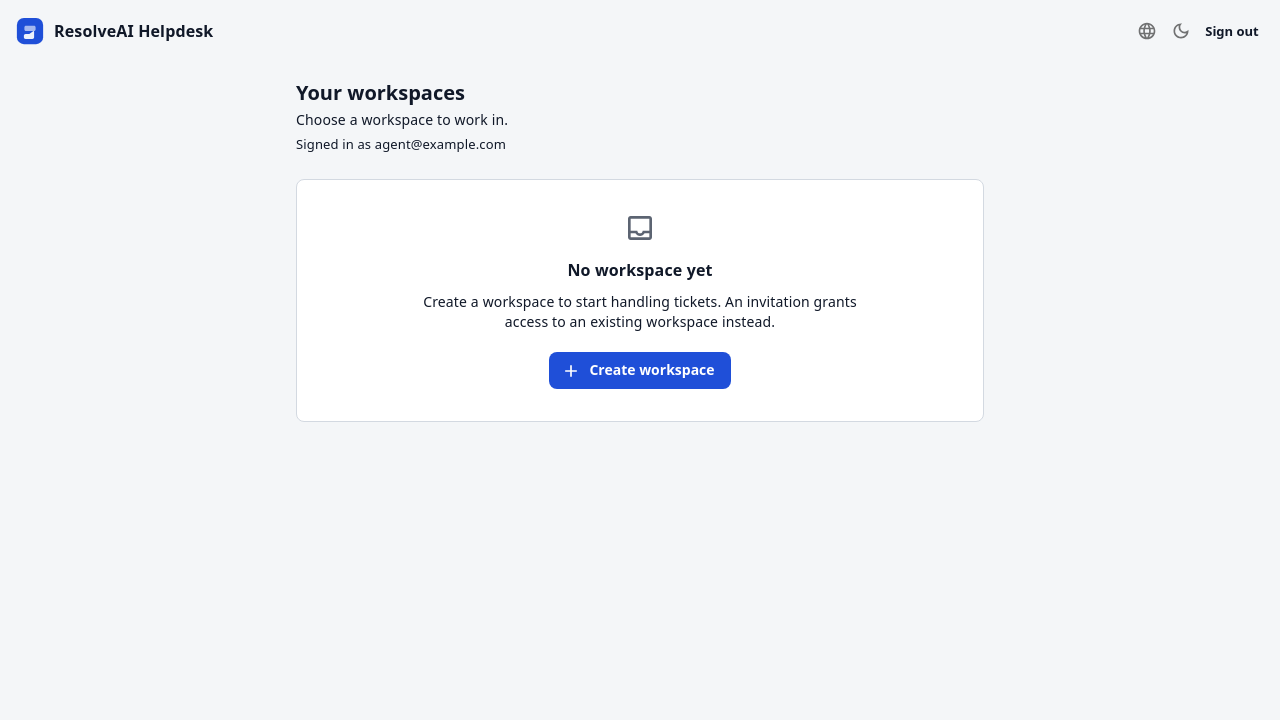
Test: WorkspacePickerPage › shows a duplicate slug as a field error from the server
Click the button "Create workspace" at (640, 371), box x1=549 y1=352 x2=731 y2=389
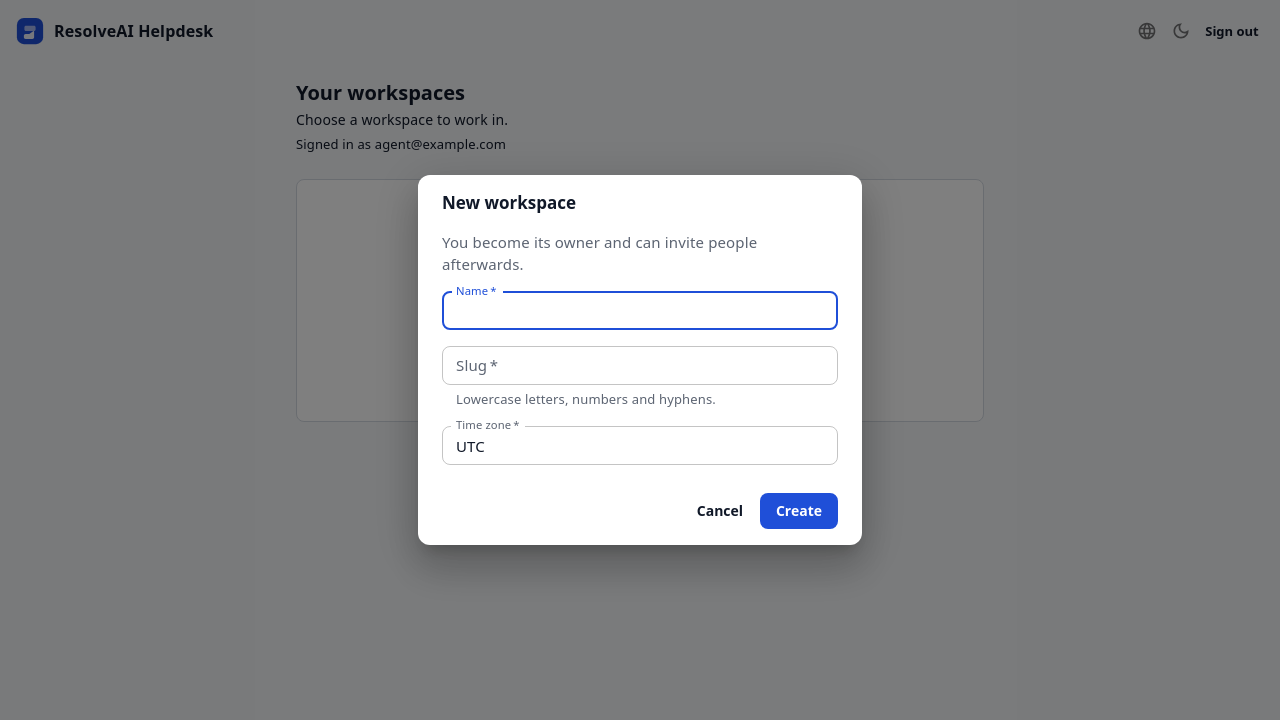
Type "Acme" into the field labelled "Name *" at (640, 311), box x1=442 y1=292 x2=838 y2=330
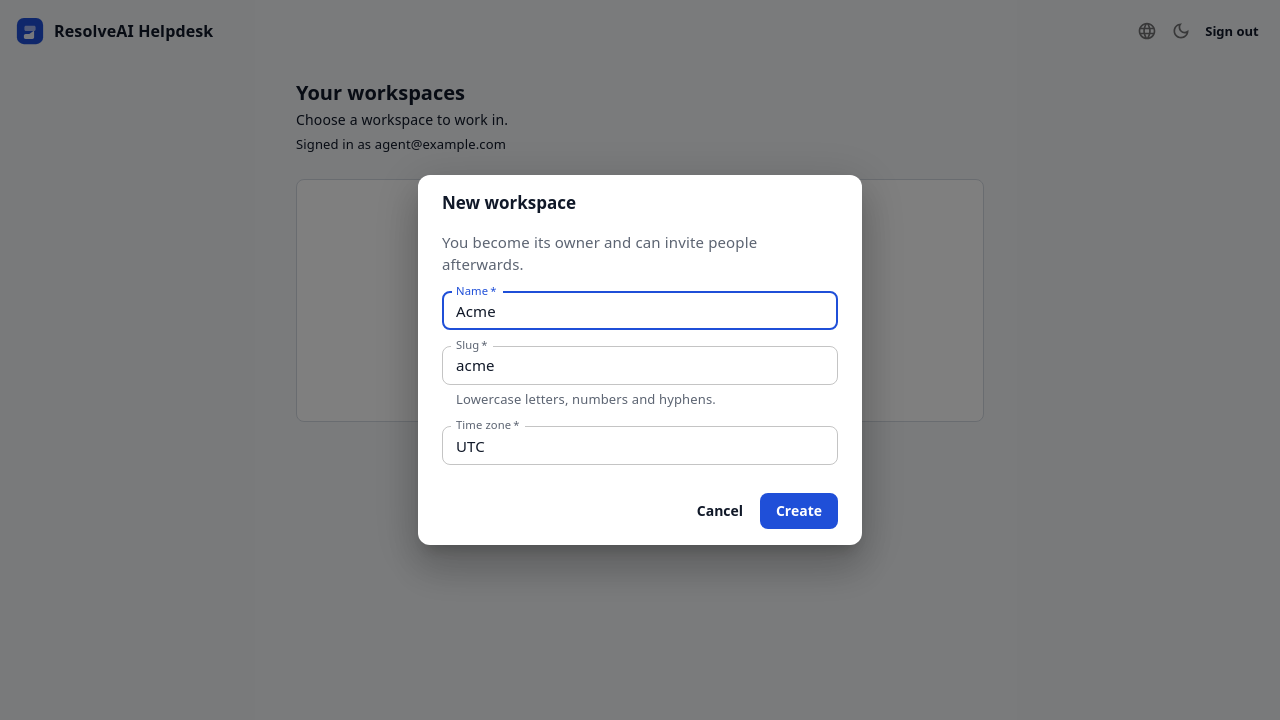
Click the button "Create" at (799, 511), box x1=760 y1=493 x2=838 y2=529
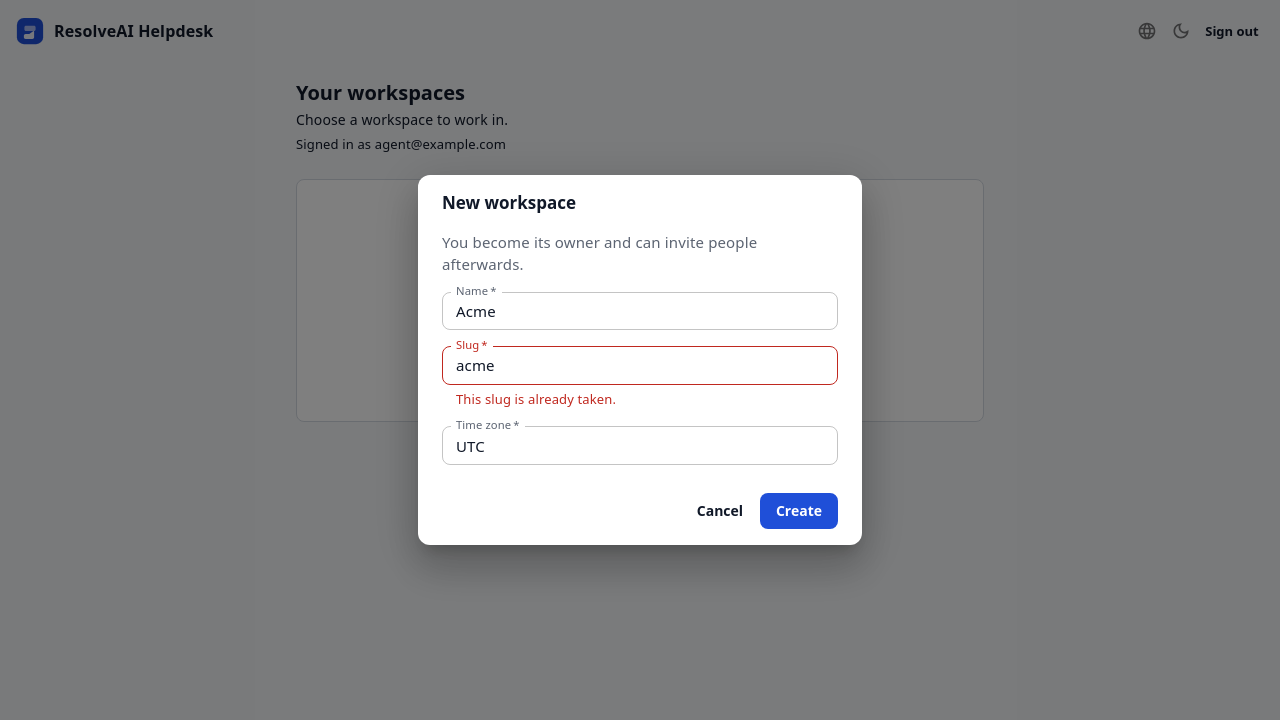
Result: the text "This slug is already taken." is shown at x1=456 y1=390 x2=616 y2=408
